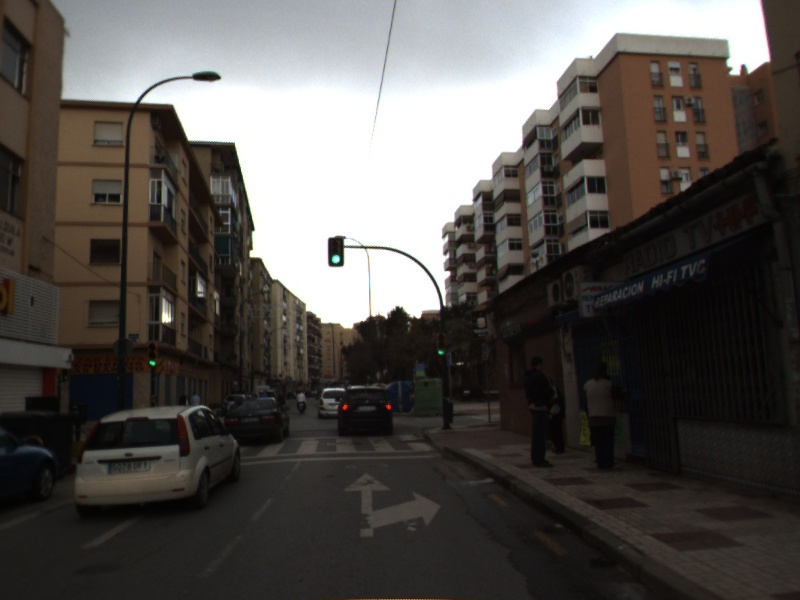STRAIGHT_RIGHT: (341, 470, 444, 539)
